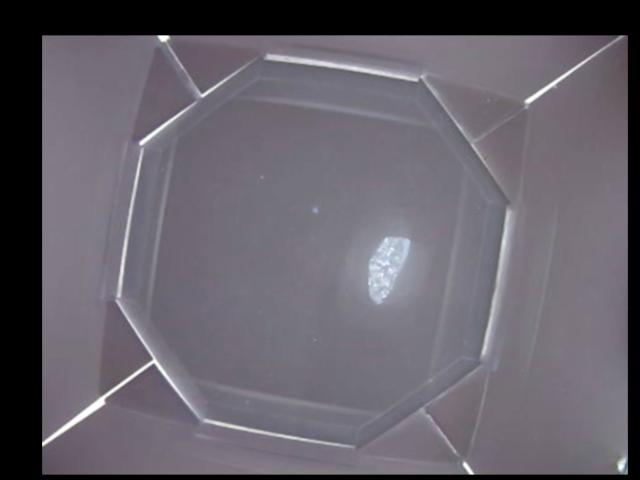China: (367, 238, 409, 301)
